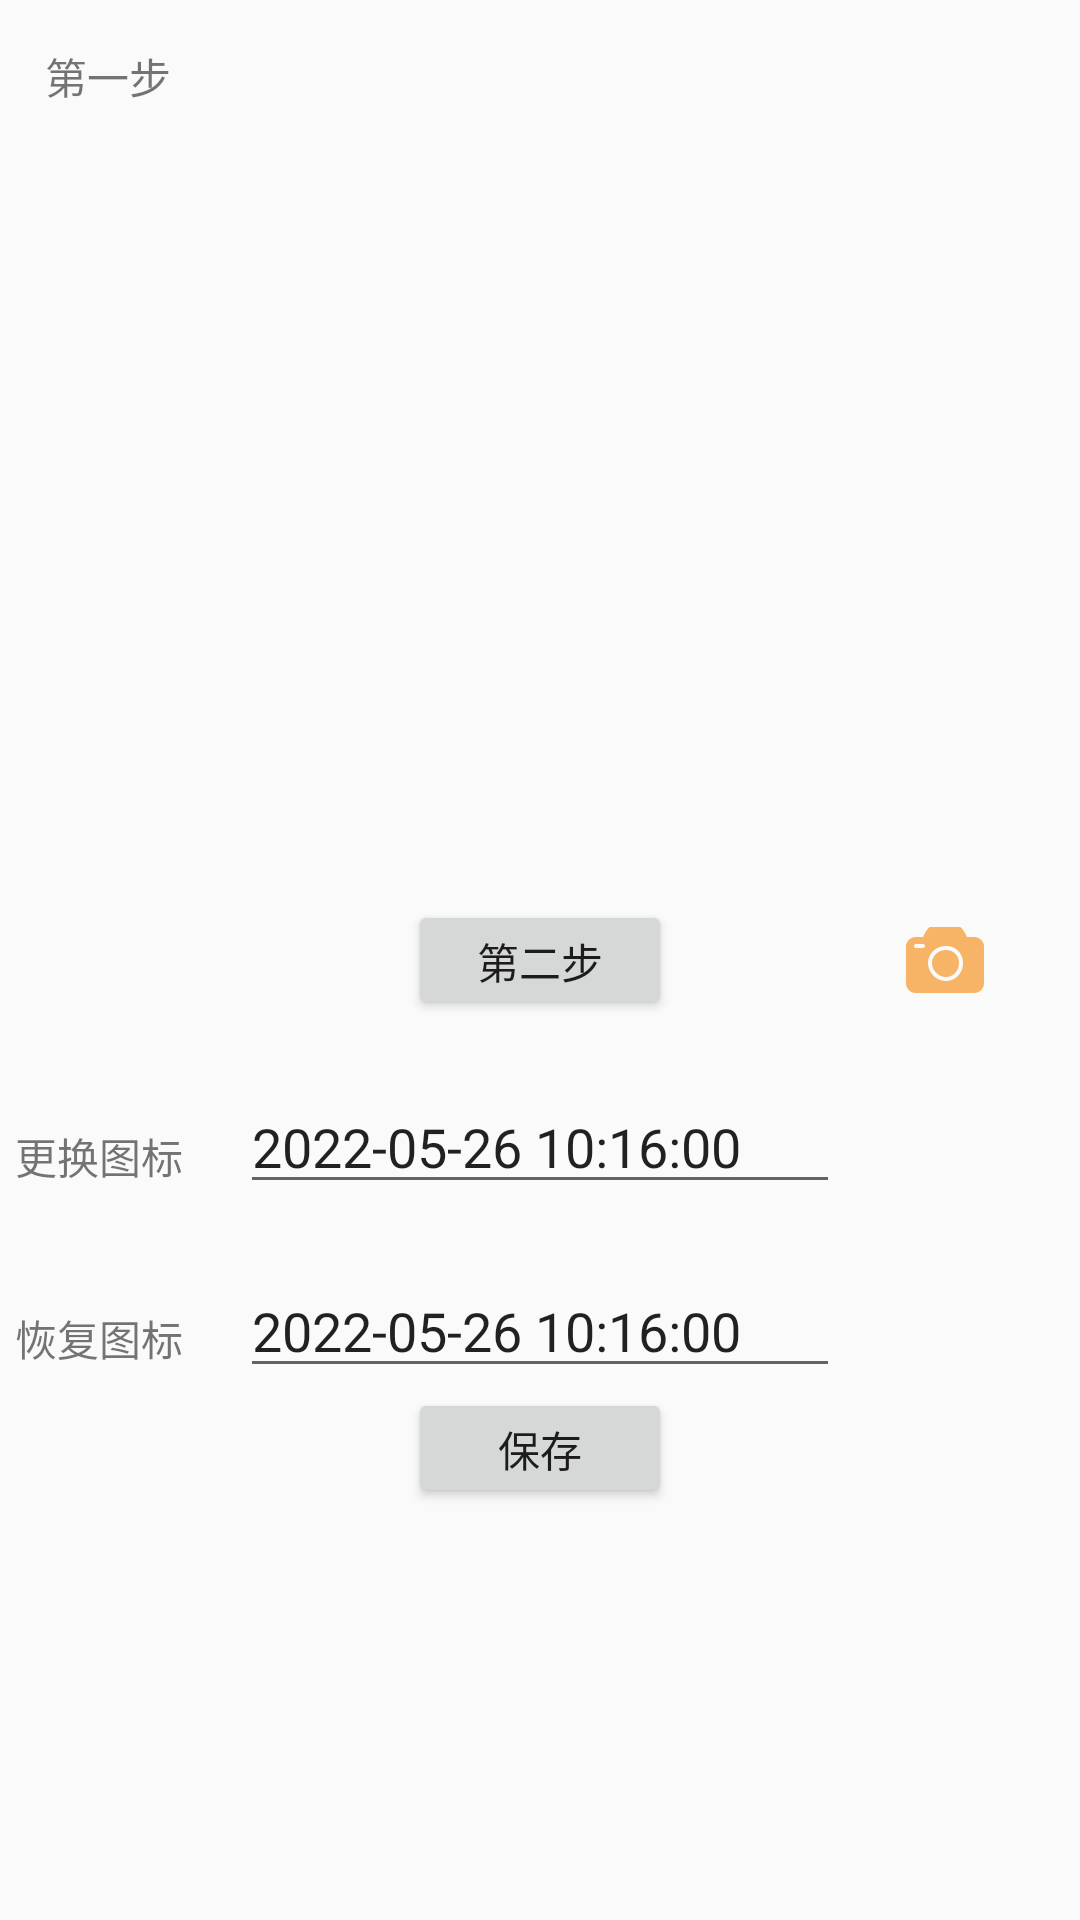

Icon click points for this 1080*1920 phone screenshot, format point (x, y):
camera: point (945, 960)
